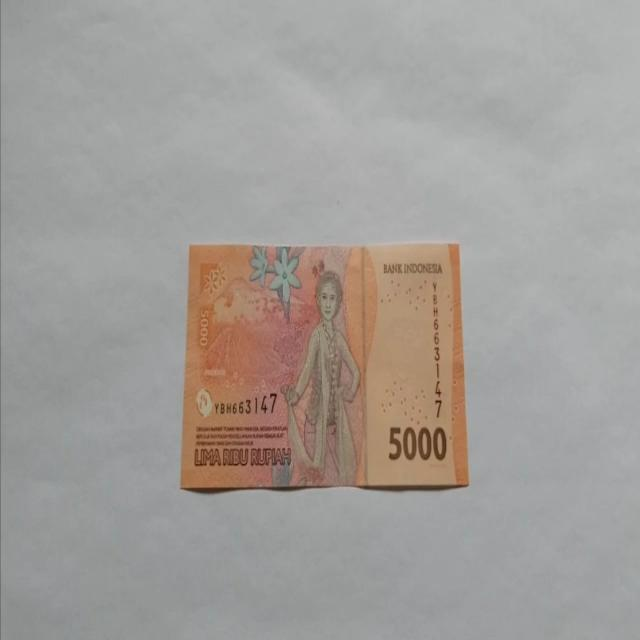lima ribu rupiah: (179, 240, 469, 492), (279, 269, 362, 487)
